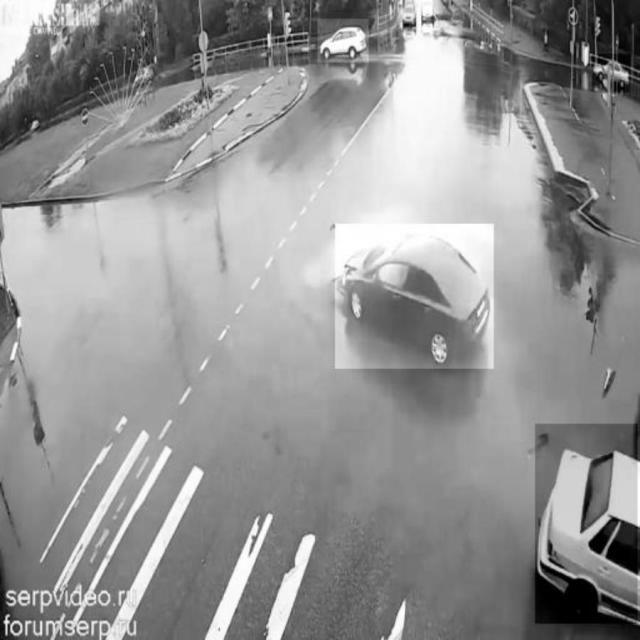vehicle: (335, 224, 493, 368), (535, 424, 637, 624), (318, 19, 369, 63), (592, 54, 630, 92), (401, 3, 418, 33), (422, 1, 432, 33)
